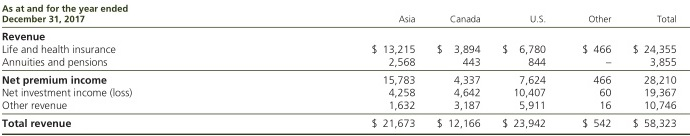column: (1, 1, 132, 135), (437, 1, 481, 136), (502, 1, 546, 136), (372, 1, 415, 136), (634, 1, 676, 136), (583, 1, 612, 136)
row: (1, 118, 690, 129), (1, 44, 690, 54), (1, 57, 690, 67), (1, 76, 690, 86), (1, 101, 690, 111), (1, 88, 690, 97), (1, 4, 689, 13), (1, 15, 690, 23), (1, 33, 690, 41)
